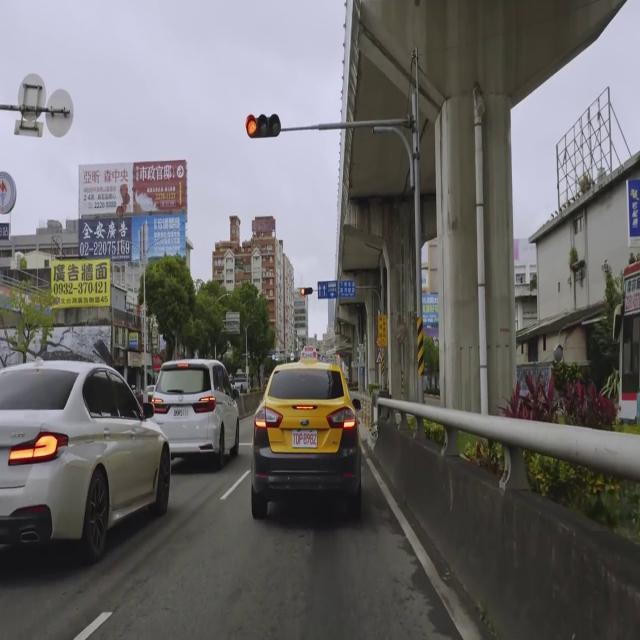red light: (245, 114, 281, 138), (299, 286, 313, 296)
